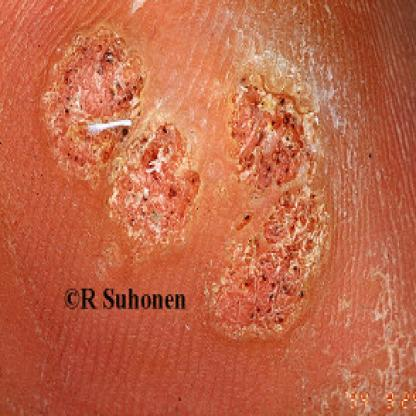Warts: (211, 36, 343, 367), (37, 20, 212, 266)
